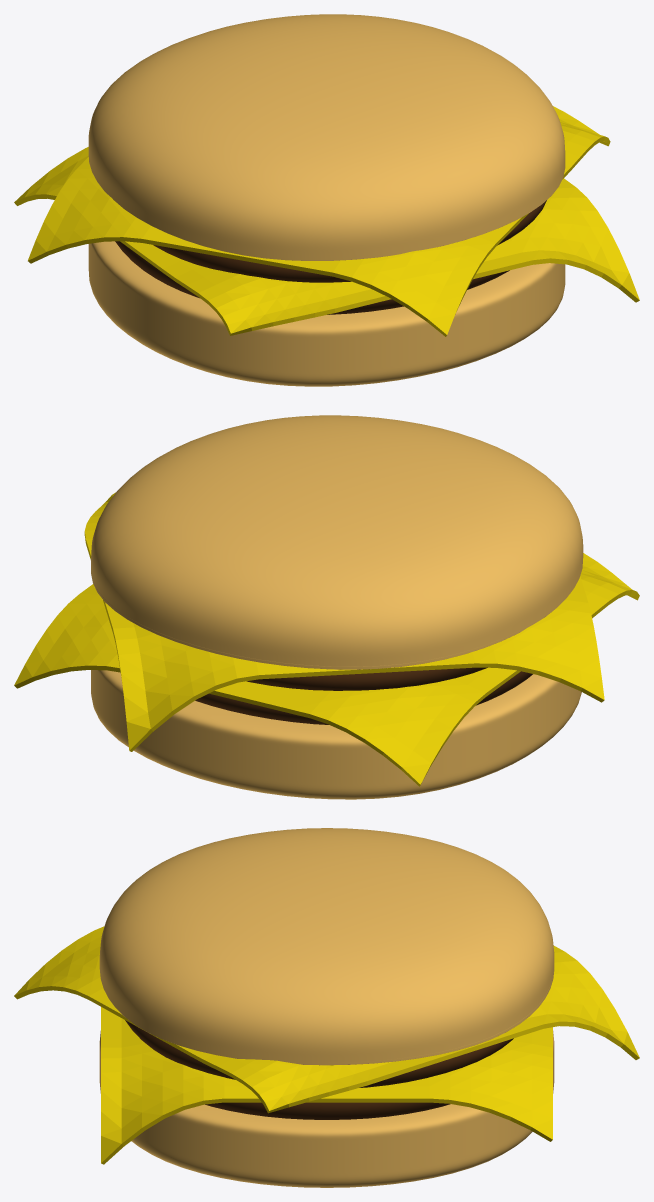
File: hamburger.glb
3 views of the same model, one above another, from view 1: azimuth 30°, elevation 25°; view 2: azimuth 150°, elevation 25°; view 3: azimuth 270°, elevation 25° (orthographic). The views are drawn at different scales.
Visible parts, largest first — view 1: Cube.001, Cube, Plane, Plane.001, Cube.003, Cube.002; view 2: Cube.001, Cube, Plane, Plane.001, Cube.003, Cube.002; view 3: Cube.001, Cube, Plane, Plane.001, Cube.002, Cube.003.
Part boxes in pixels (x1,y1,x2,y2): Cube.001: (88,14,565,260); Cube: (88,241,565,386); Plane: (14,147,639,335); Plane.001: (28,106,610,336); Cube.003: (153,200,546,282); Cube.002: (115,241,509,314); Cube.001: (91,415,583,669); Cube: (91,670,581,799); Plane: (14,553,639,786); Plane.001: (84,492,604,751); Cube.003: (247,667,487,690); Cube.002: (195,671,532,724); Cube.001: (99,828,554,1065); Cube: (99,1031,554,1187); Plane: (101,1007,552,1164); Plane.001: (14,926,639,1113); Cube.002: (205,1102,450,1119); Cube.003: (125,1020,513,1087).
Size of the model in its own units: 12.1 by 5.03 by 12.64.
